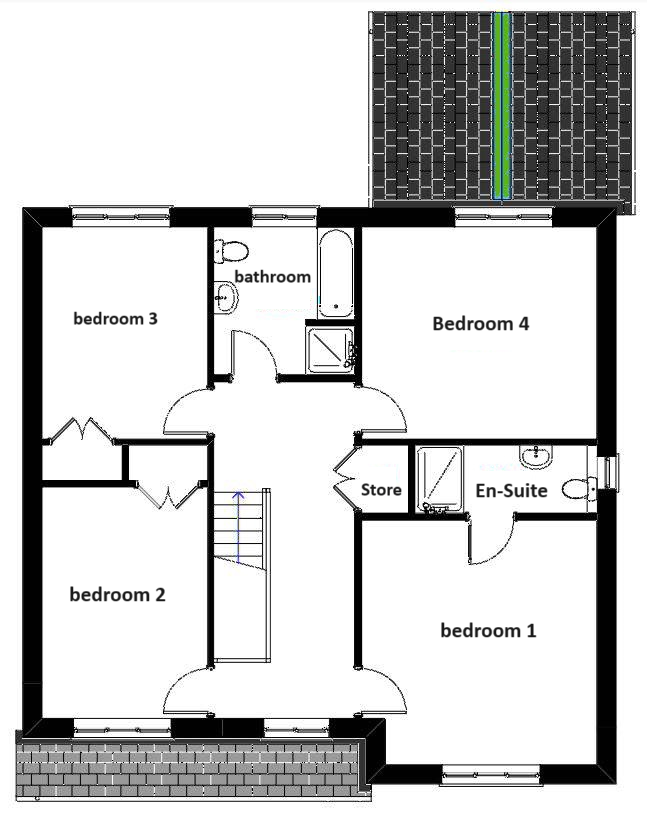baisn: (212, 281, 240, 318)
basin: (515, 443, 559, 471)
bathtub: (314, 223, 355, 317)
door: (351, 667, 409, 717), (161, 665, 215, 717), (230, 325, 279, 382), (354, 384, 409, 432), (467, 513, 515, 568), (163, 388, 216, 434), (332, 480, 364, 514), (333, 444, 364, 479), (134, 480, 170, 510), (166, 477, 198, 510), (82, 416, 116, 447), (49, 414, 80, 444)
shower: (415, 445, 466, 513), (303, 324, 355, 374)
stairs: (214, 488, 266, 569)
toilet: (558, 474, 599, 502), (212, 235, 248, 265)
window: (72, 203, 171, 228), (455, 204, 554, 228), (444, 763, 540, 787), (72, 718, 171, 740), (251, 204, 319, 227), (262, 717, 329, 738)
